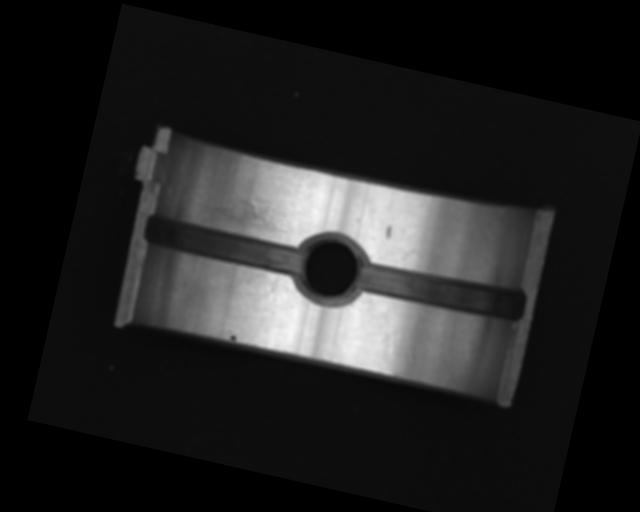blot: (227, 331, 237, 342)
bruise: (383, 224, 393, 240)
gap: (353, 253, 528, 326), (142, 211, 306, 279)
hole: (288, 229, 370, 312)
nick: (380, 298, 405, 354)
scratch: (194, 185, 298, 238)
